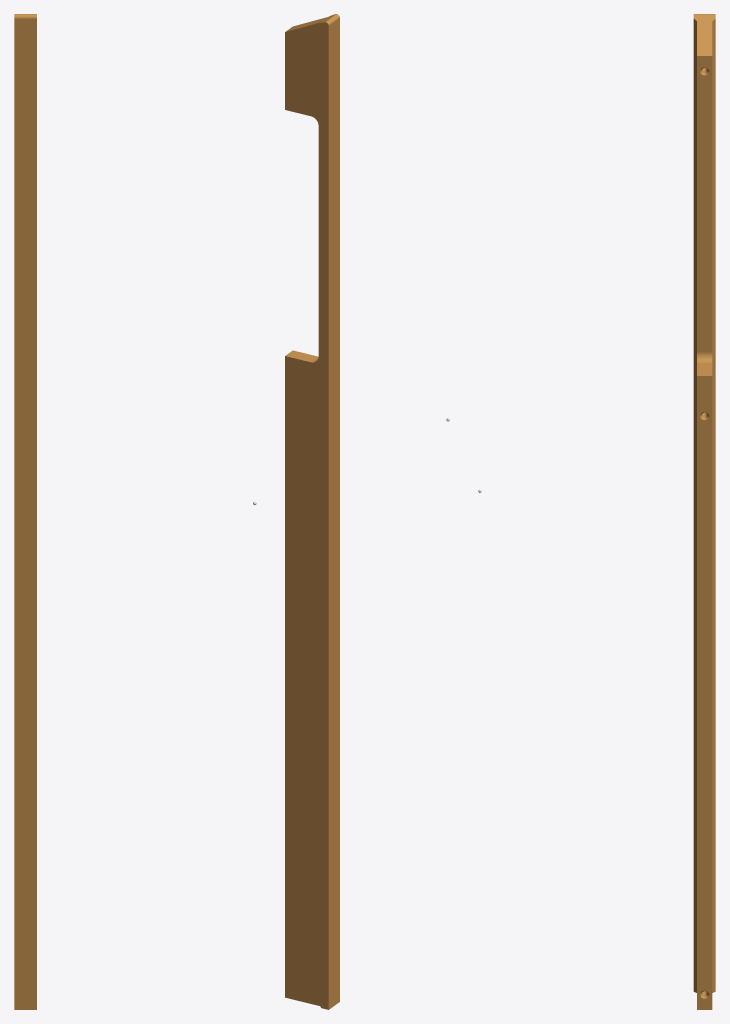
Rendered from 171 pvd gold.glb.
The picture shows the model from 3 angles, left to right: view 1: azimuth 90°, elevation 25°; view 2: azimuth 150°, elevation 25°; view 3: azimuth 270°, elevation 25°; orthographic projection.
Visible parts, largest first — view 1: CABINET_HANDLE_171; view 2: CABINET_HANDLE_171; view 3: CABINET_HANDLE_171.
Part boxes in pixels (x1=…): CABINET_HANDLE_171: x1=14, y1=14, x2=36, y2=1009; CABINET_HANDLE_171: x1=285, y1=14, x2=339, y2=1009; CABINET_HANDLE_171: x1=693, y1=14, x2=715, y2=1009.
Bounding box in the file's own units: 0.7875 × 15.84 × 3.5.
